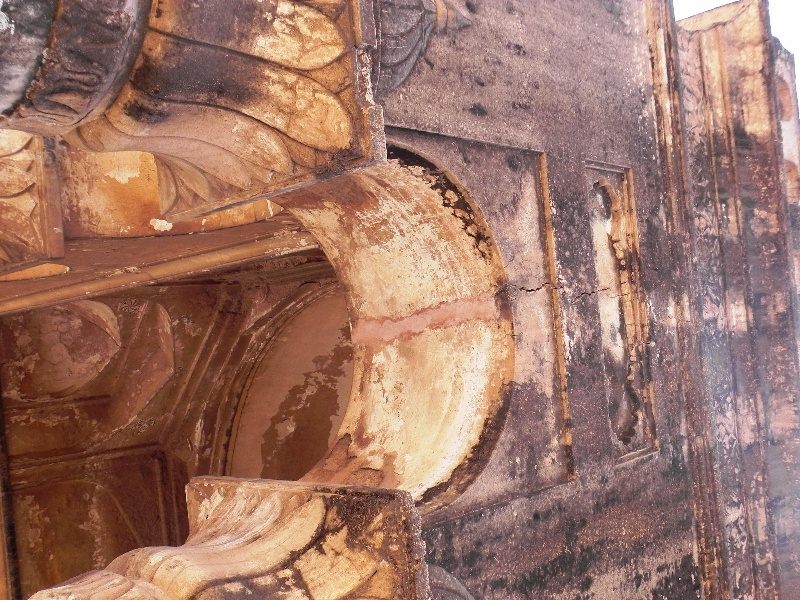Crack: (513, 278, 617, 303)
